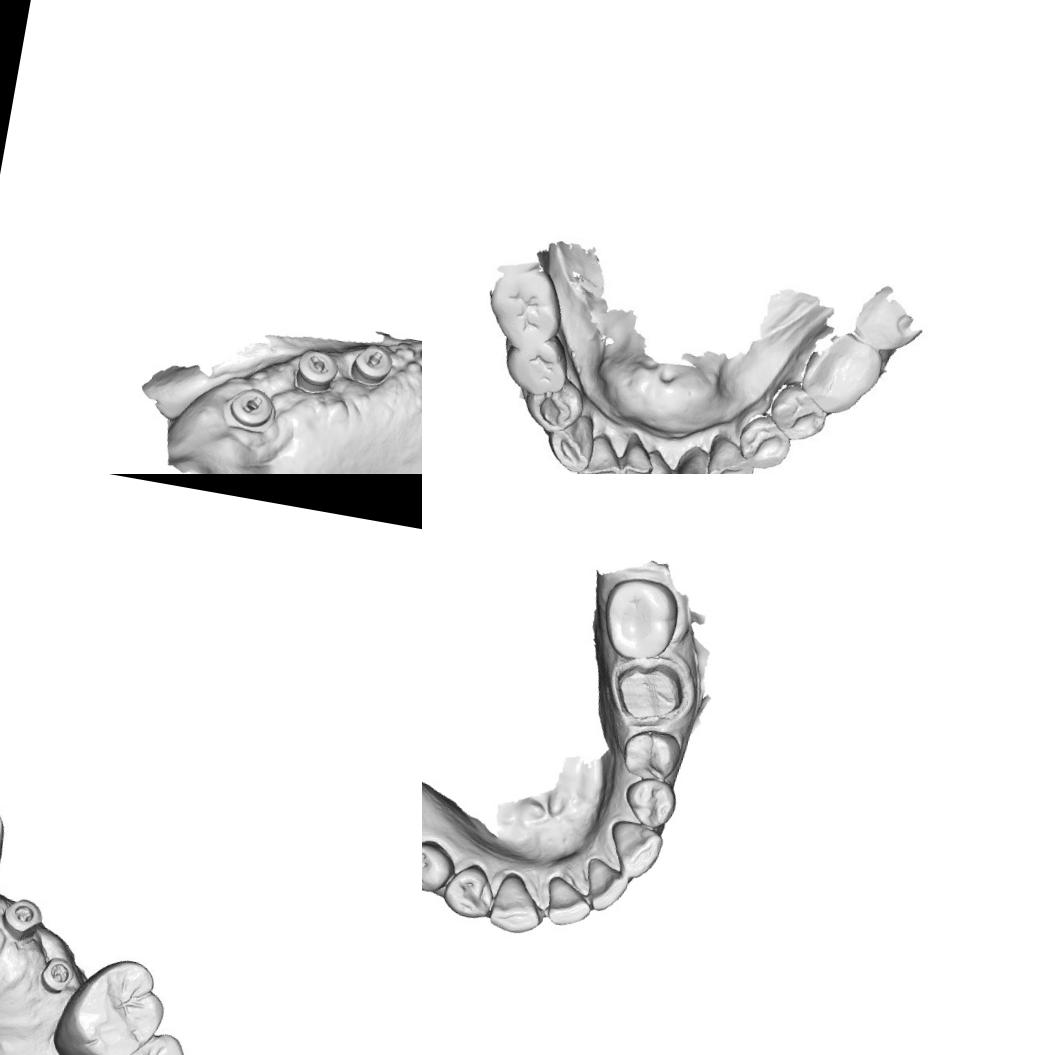canine: (484, 868, 548, 938), (602, 816, 666, 880), (548, 410, 601, 474), (703, 431, 760, 474)
crown: (607, 654, 690, 730)
implant: (35, 948, 84, 1004), (0, 893, 48, 944)
implant_minus: (221, 380, 281, 436), (294, 341, 343, 392), (353, 342, 391, 382)
incisor: (578, 855, 630, 916), (539, 873, 593, 931), (571, 430, 627, 474), (614, 434, 659, 474), (670, 445, 725, 474), (636, 450, 686, 474)
molar: (56, 950, 172, 1055), (595, 571, 686, 666), (480, 263, 562, 348), (802, 330, 884, 414), (503, 333, 571, 398), (68, 1023, 195, 1055)
premolar: (766, 384, 834, 446), (617, 725, 687, 785), (438, 857, 501, 922), (520, 374, 587, 433), (617, 773, 680, 831), (738, 413, 792, 473), (422, 833, 459, 895)
